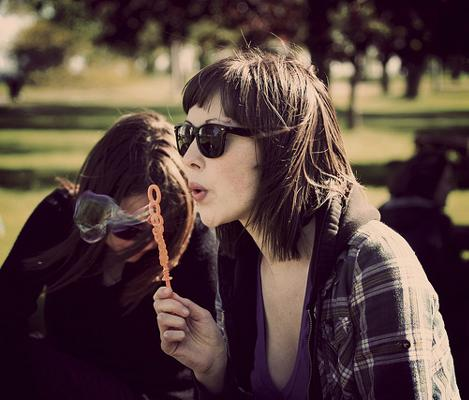person: (142, 42, 465, 400)
